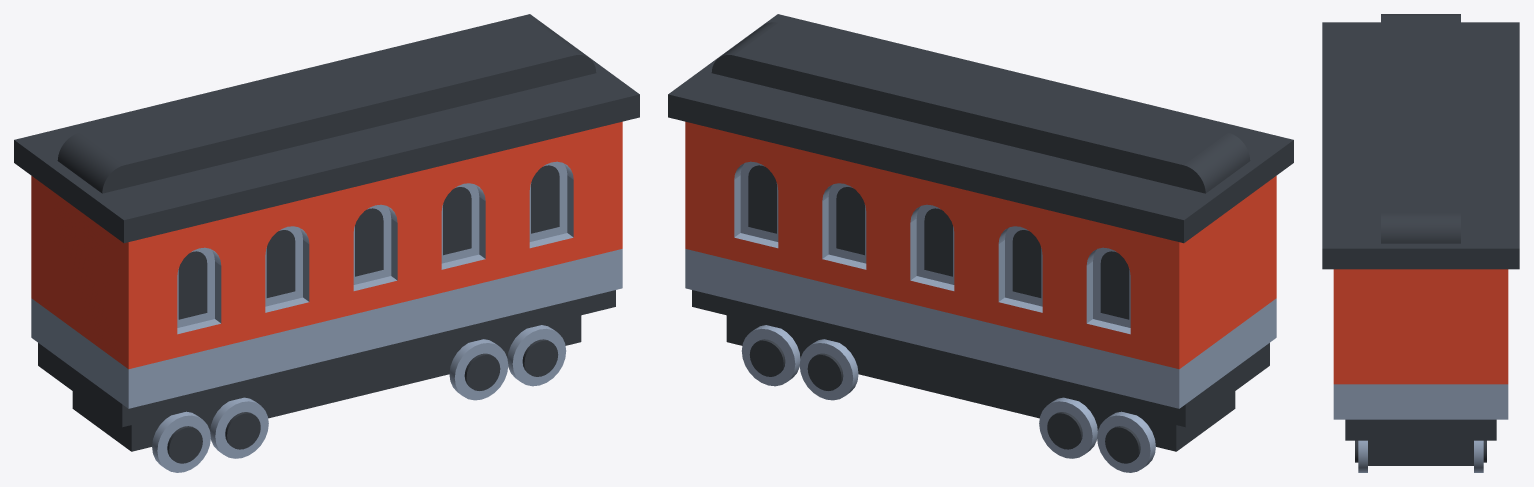
File: trainWagon.dae
3 renders of one model, left to right at view 1: azimuth 30°, elevation 25°; view 2: azimuth 150°, elevation 25°; view 3: azimuth 270°, elevation 25°, orthographic. The views are drawn at different scales.
Parts seen in each view (by area): view 1: trainWagon; view 2: trainWagon; view 3: trainWagon.
Part boxes in pixels (x1=…): trainWagon: x1=14, y1=14, x2=639, y2=472; trainWagon: x1=668, y1=14, x2=1293, y2=472; trainWagon: x1=1322, y1=14, x2=1519, y2=472.
Size of the model in its own units: 0.4684 by 0.2684 by 0.1727.
